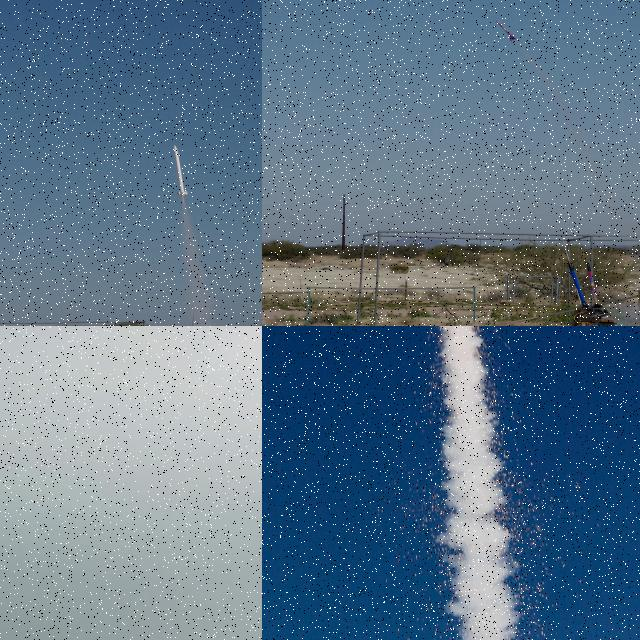Rocket: (567, 260, 591, 308), (173, 144, 189, 198), (587, 261, 603, 308), (495, 20, 518, 42)
